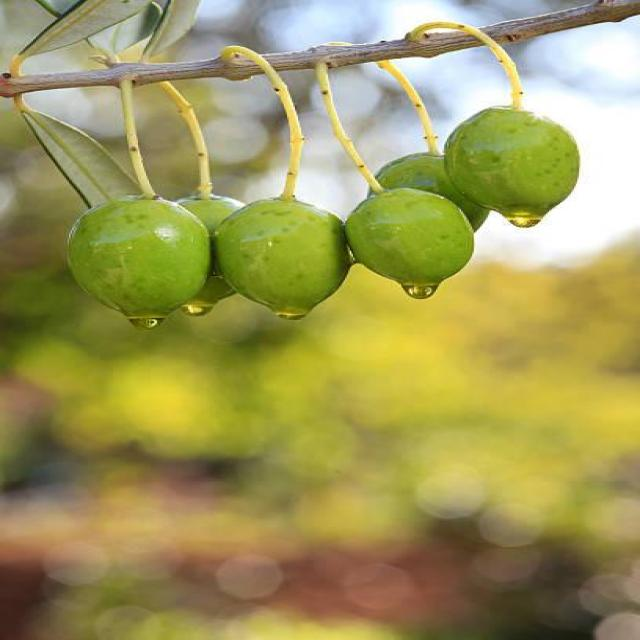Healthy: (67, 197, 212, 313), (444, 107, 579, 219), (216, 198, 351, 309), (345, 188, 474, 287)
